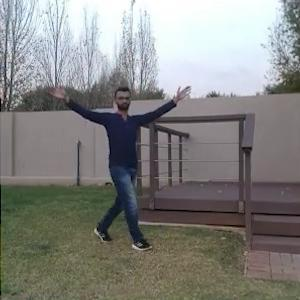takeoff: (45, 89, 180, 249)
